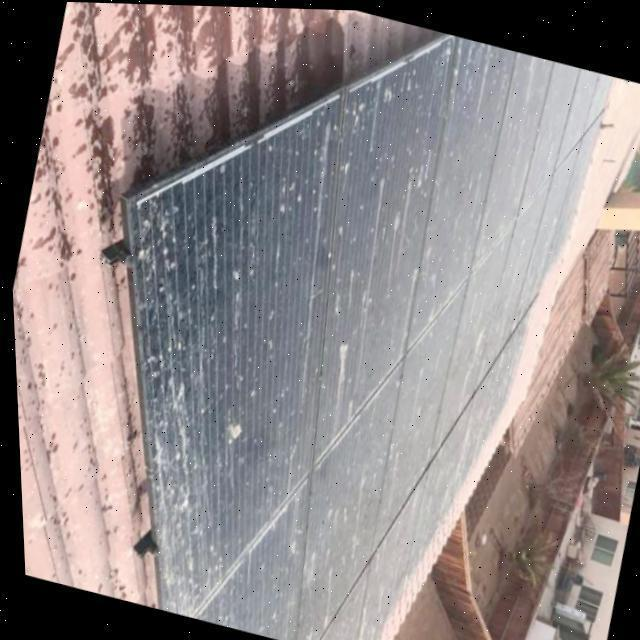Anomaly Solar Panel: (129, 32, 613, 640)
Surface Contaminant: (182, 104, 603, 640), (38, 185, 294, 622), (310, 295, 532, 640), (318, 165, 408, 425), (326, 44, 434, 168), (368, 160, 421, 306), (441, 34, 517, 128), (386, 241, 444, 363), (308, 329, 356, 446), (328, 460, 376, 575), (255, 479, 309, 558), (361, 433, 405, 526), (422, 30, 460, 126), (392, 357, 427, 439), (267, 164, 312, 222), (322, 262, 360, 324), (494, 113, 532, 163), (290, 542, 320, 592), (516, 51, 541, 105), (312, 498, 346, 536)
